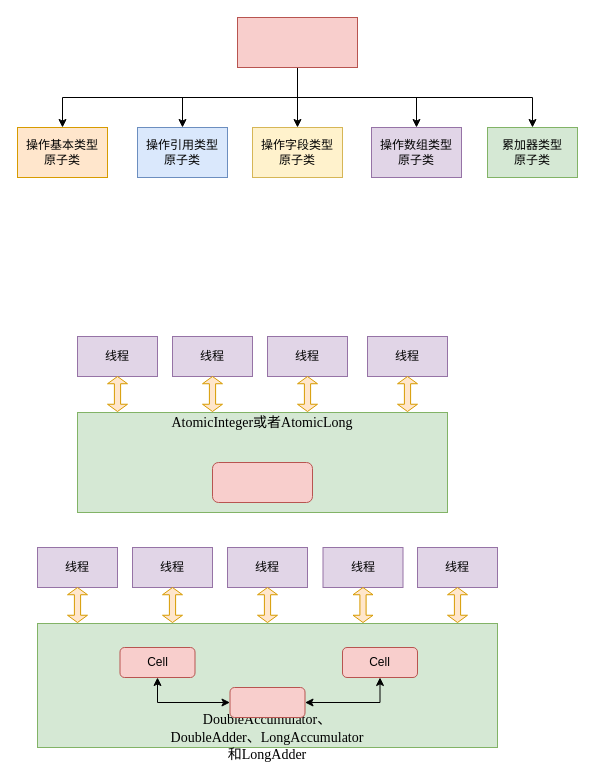
Image size: 595x781. Some labels were removed from this diagram. Each missing label, with the centre of its shape:
base: the point at 267,702
原子变量 value: the point at 262,482
无锁原子类: the point at 297,42
